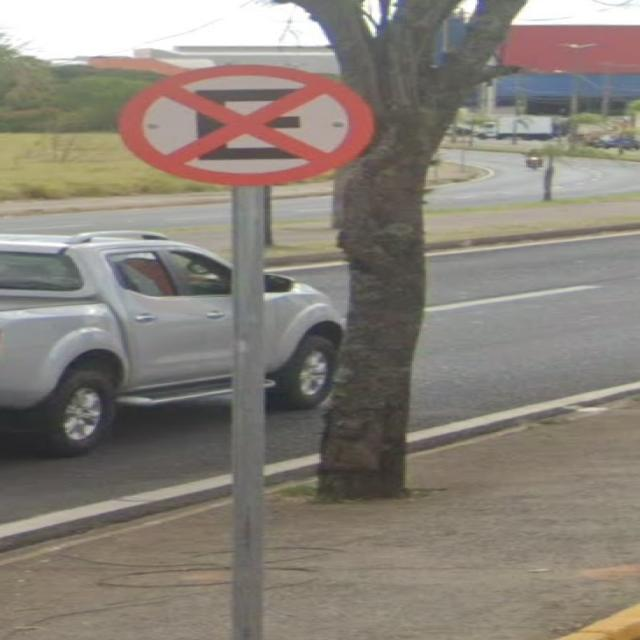no parking: (95, 51, 438, 203)
